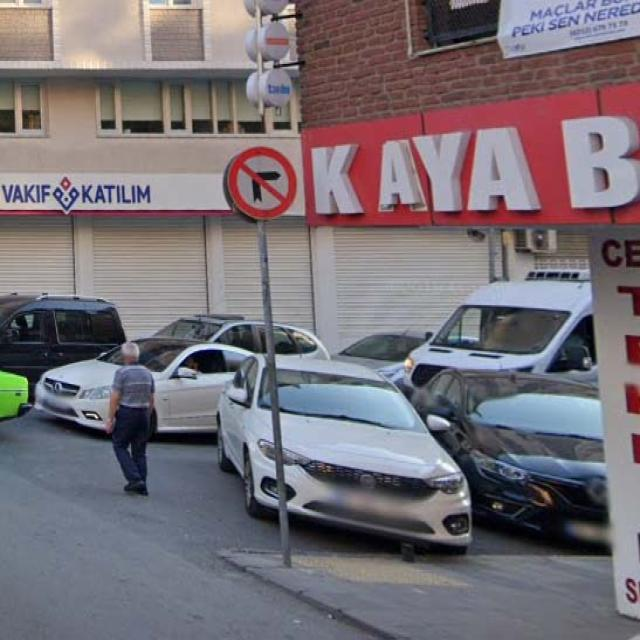sagadonulmez: (230, 147, 298, 220)
